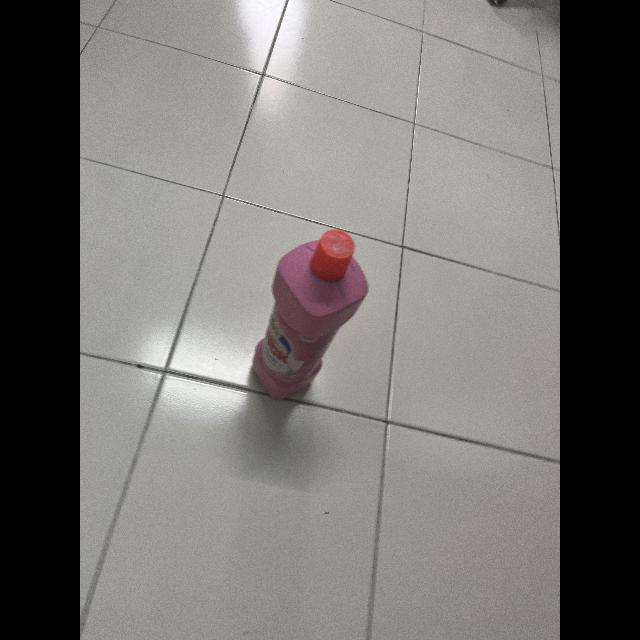chemical_plastic_bottle: (244, 220, 376, 406)
